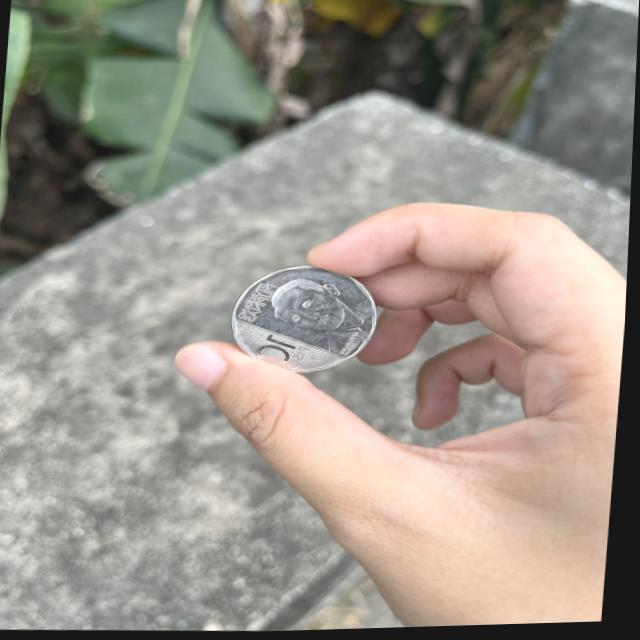10_New_Front: (254, 336, 314, 373)
